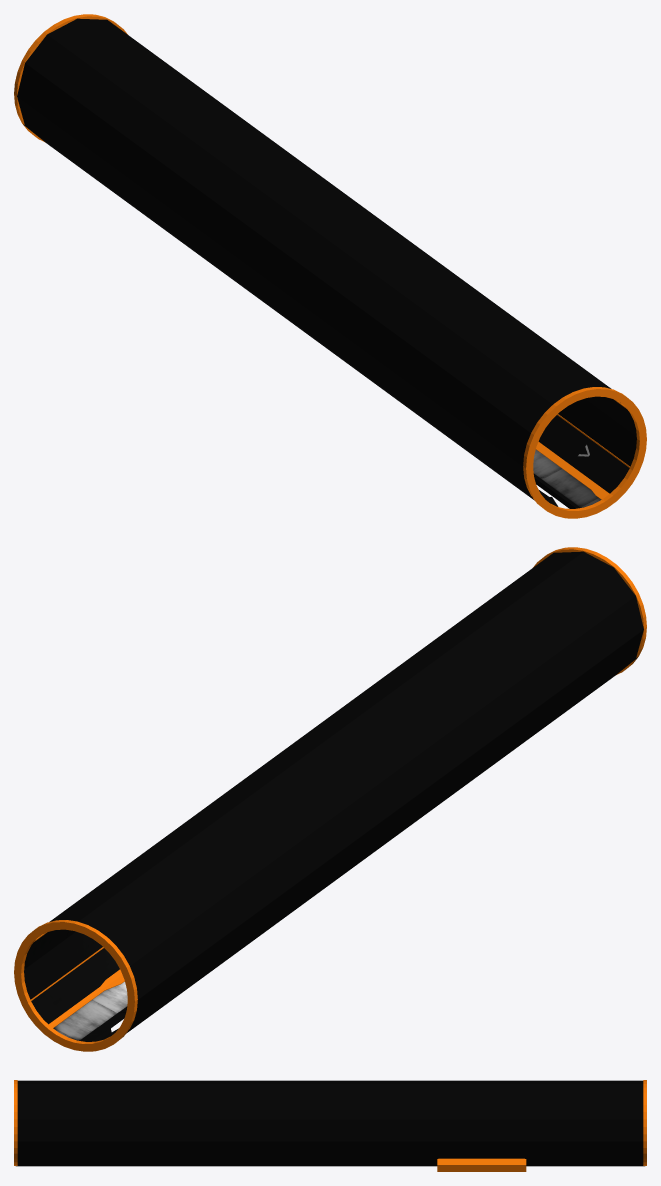
Rendered from Pipe 0 Full.fbx.
3 views of the same model, one above another, from view 1: azimuth 30°, elevation 25°; view 2: azimuth 150°, elevation 25°; view 3: azimuth 270°, elevation 25° (orthographic). The views are drawn at different scales.
Visible parts, largest first — view 1: External, Faces black, Variable Color Object, Faces white; view 2: External, Faces black, Variable Color Object, Faces white; view 3: External, Variable Color Object.
Part boxes in pixels (bbox=[...]): External: bbox=[17, 18, 611, 500]; Faces black: bbox=[538, 396, 636, 493]; Variable Color Object: bbox=[14, 14, 646, 518]; Faces white: bbox=[533, 402, 620, 507]; External: bbox=[49, 551, 643, 1033]; Faces black: bbox=[24, 929, 119, 1024]; Variable Color Object: bbox=[14, 547, 646, 1051]; Faces white: bbox=[40, 935, 127, 1040]; External: bbox=[16, 1080, 644, 1166]; Variable Color Object: bbox=[14, 1080, 646, 1171].
Bounding box in the file's own units: 109 × 110 × 800.
2 materials, 1 textured.
